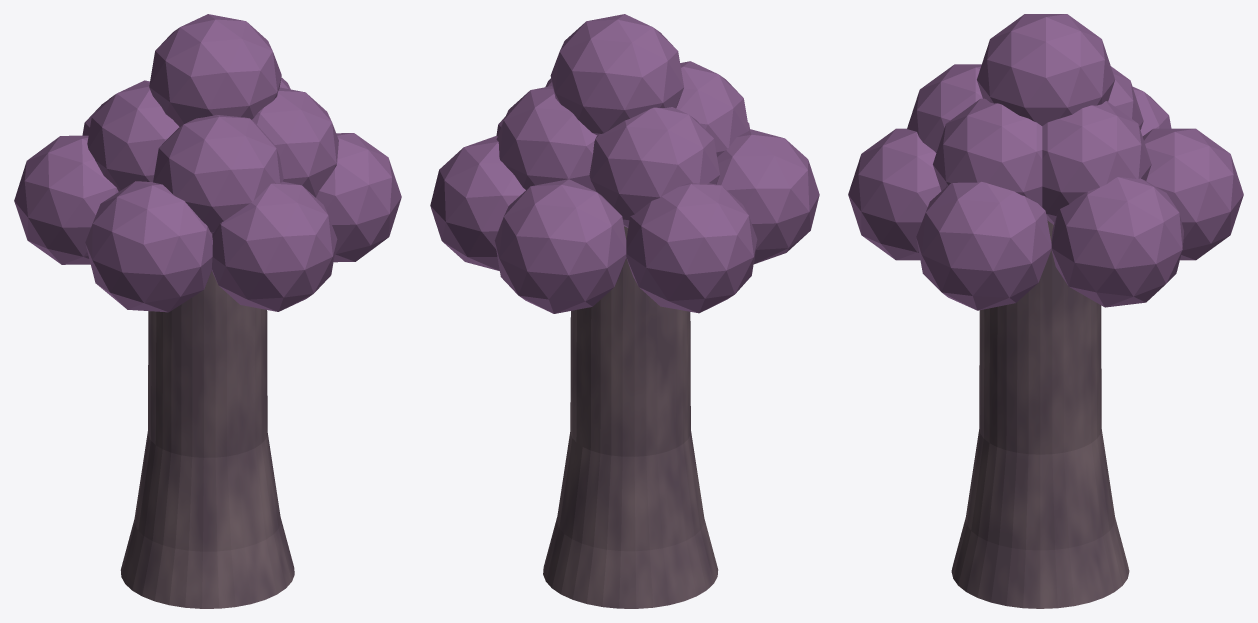
File: tree3.gltf
The picture shows the model from 3 angles, left to right: view 1: azimuth 30°, elevation 25°; view 2: azimuth 150°, elevation 25°; view 3: azimuth 270°, elevation 25°; orthographic projection. The views are drawn at different scales.
Visible parts, largest first — view 1: Leaves, trunk.002; view 2: Leaves, trunk.002; view 3: Leaves, trunk.002.
Boxes of the visible parts, bbox=[...] form: Leaves: bbox=[14, 14, 401, 312]; trunk.002: bbox=[120, 271, 294, 608]; Leaves: bbox=[430, 14, 819, 313]; trunk.002: bbox=[543, 226, 718, 608]; Leaves: bbox=[848, 14, 1243, 310]; trunk.002: bbox=[951, 220, 1129, 608].
Bounding box in the file's own units: 6.03 × 10.25 × 6.57.
2 materials, 1 textured.
